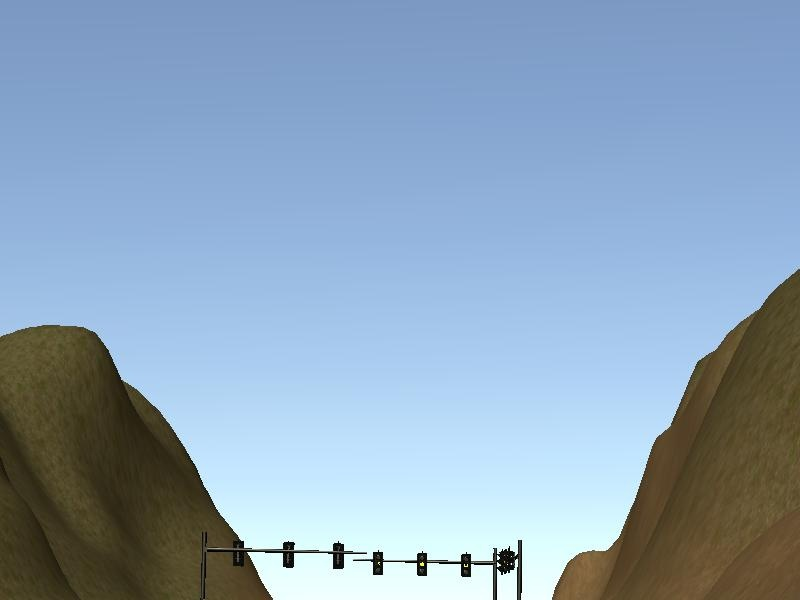traffic_light_yellow: (361, 552, 495, 577)
